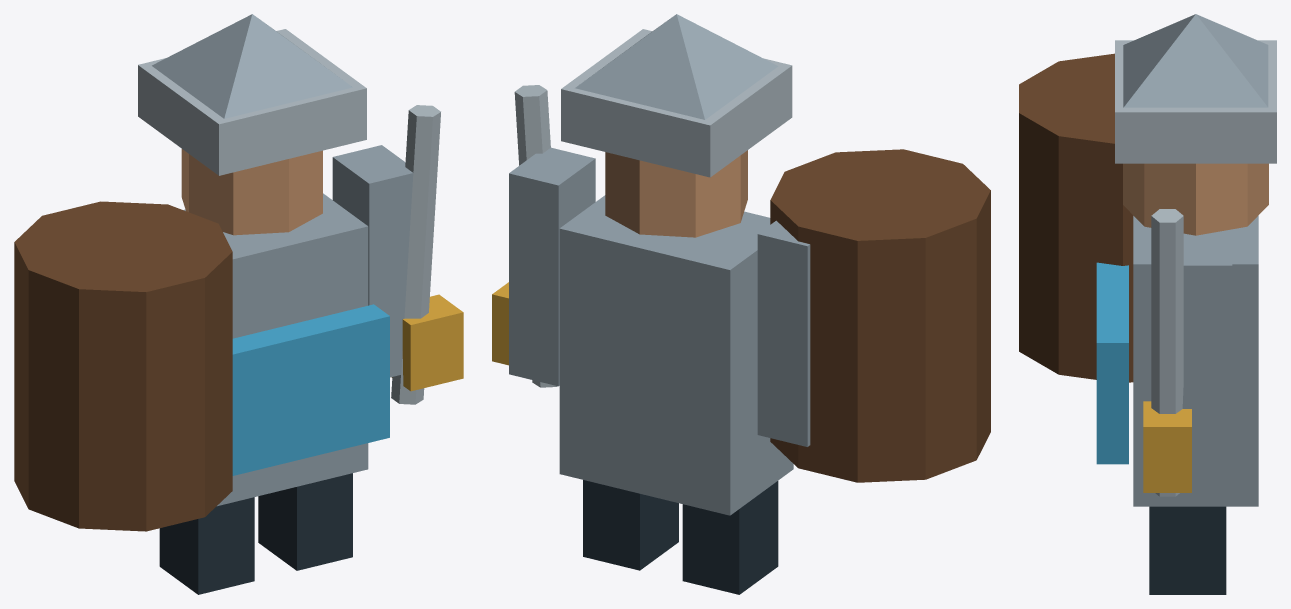
File: infantry.obj
3 renders of one model, left to right at view 1: azimuth 30°, elevation 25°; view 2: azimuth 150°, elevation 25°; view 3: azimuth 270°, elevation 25°, orthographic.
Parts seen in each view (by area): view 1: infantry; view 2: infantry; view 3: infantry.
Boxes of the visible parts, left/top/right/bottom form: infantry: left=14, top=14, right=463, bottom=594; infantry: left=492, top=14, right=990, bottom=594; infantry: left=1019, top=14, right=1276, bottom=594.
Bounding box in the file's own units: 1.26 × 1.48 × 0.6368.
